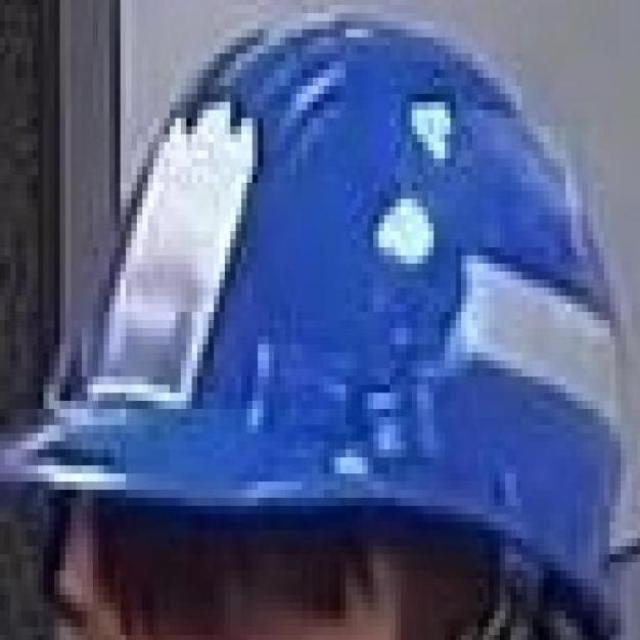blue helmet: (30, 22, 614, 582)
